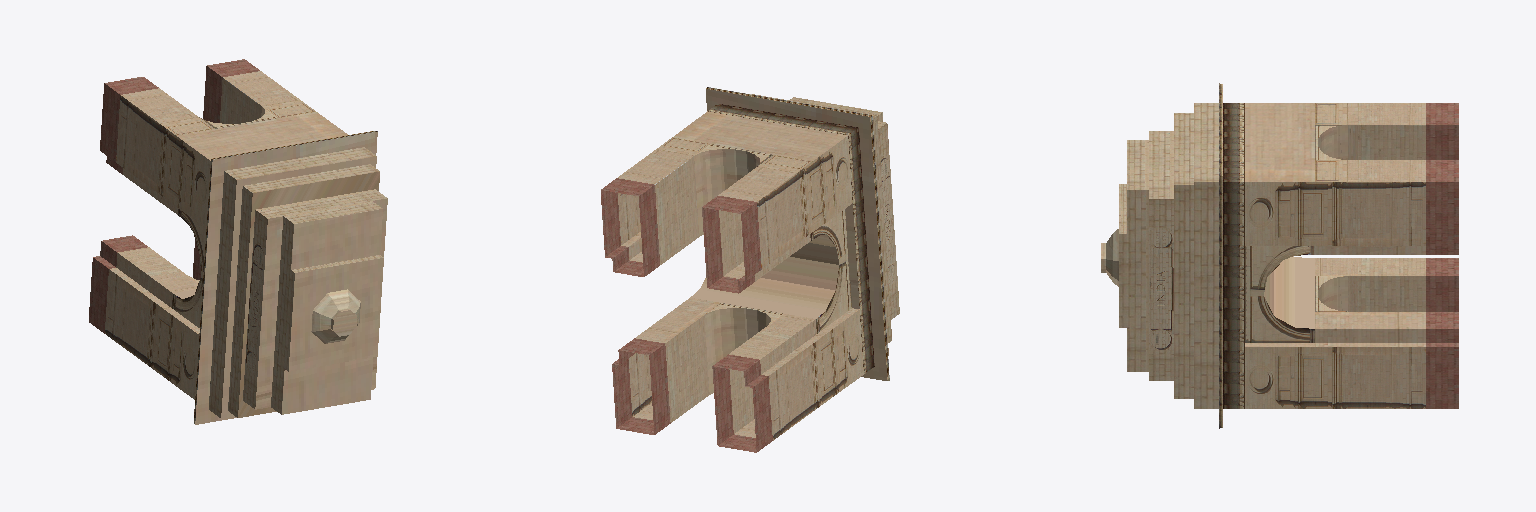
The picture shows the model from 3 angles: view 1: azimuth 30°, elevation 25°; view 2: azimuth 150°, elevation 25°; view 3: azimuth 270°, elevation 25°; orthographic projection.
Visible parts, largest first — view 1: Object05; view 2: Object05; view 3: Object05.
Part boxes in pixels (x1,y1,x2,y2): Object05: (89, 59, 387, 424); Object05: (601, 87, 899, 452); Object05: (1101, 83, 1458, 428).
Bounding box in the file's own units: 24.1 × 34.42 × 40.84.
1 materials, 1 textured.